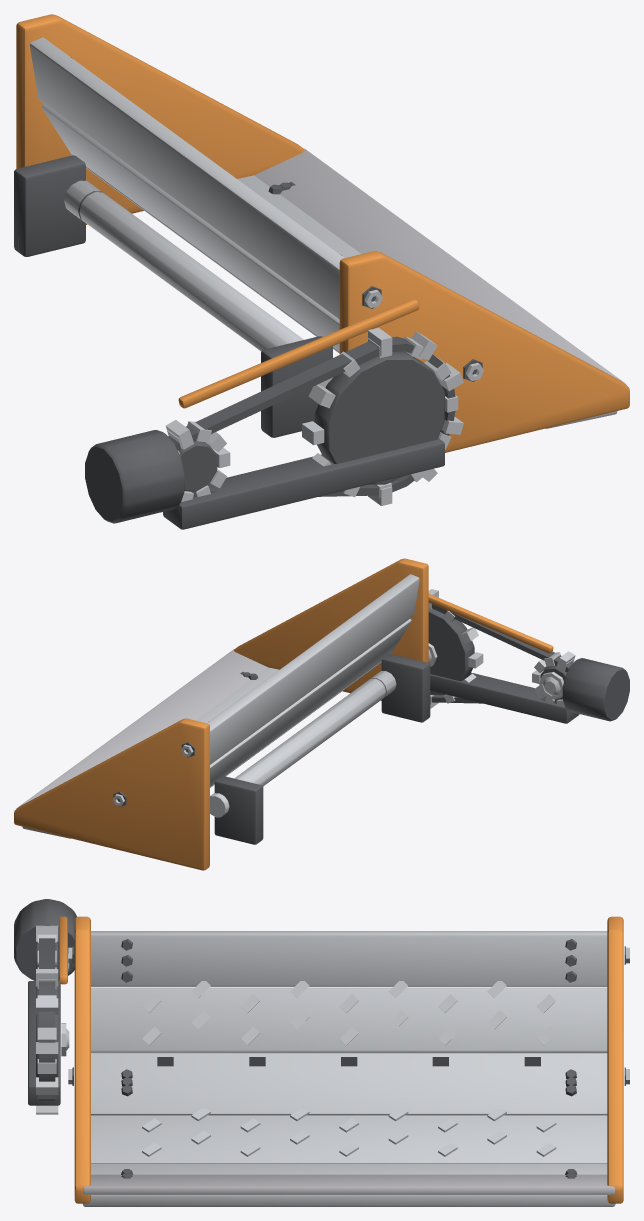
Rendered from cinder.glb.
The picture shows the model from 3 angles, top to bottom: view 1: azimuth 30°, elevation 25°; view 2: azimuth 150°, elevation 25°; view 3: azimuth 270°, elevation 25°; orthographic projection. The views are drawn at different scales.
Visible parts, largest first — view 1: body; view 2: body; view 3: body.
Part boxes in pixels (x1,y1,x2,y2): body: [14, 14, 629, 529]; body: [14, 558, 629, 870]; body: [14, 899, 629, 1206].
Size of the model in its own units: 0.7023 by 0.278 by 0.8322.
